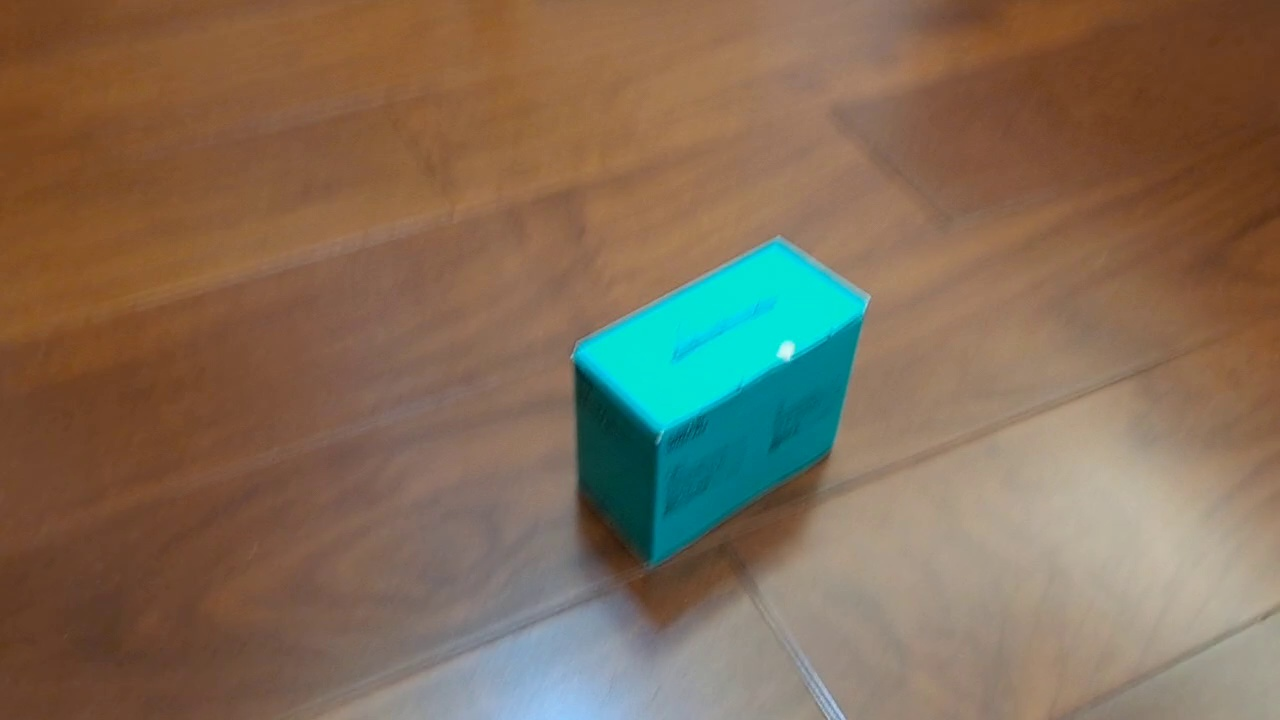webcam: (569, 233, 873, 572)
